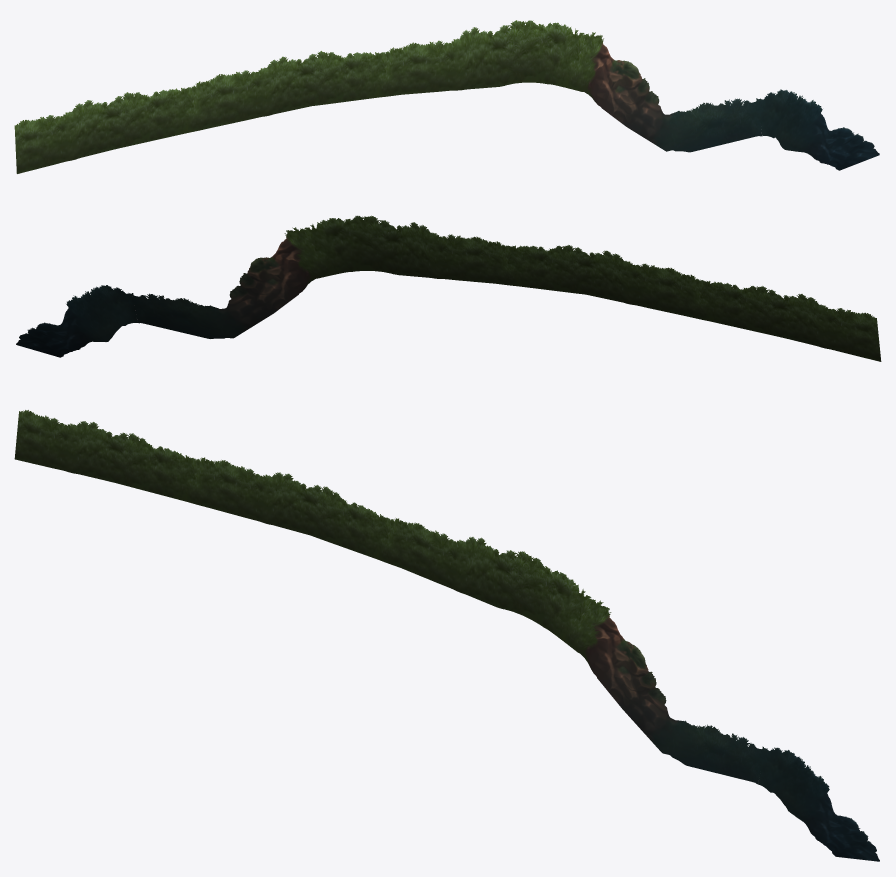
Rendered from Dark Forest Grass FG.FBX.
3 views of the same model, one above another, from view 1: azimuth 30°, elevation 25°; view 2: azimuth 150°, elevation 25°; view 3: azimuth 330°, elevation 25° (orthographic).
Parts seen in each view (by area): view 1: Grass Landscape FG; view 2: Grass Landscape FG; view 3: Grass Landscape FG.
Part boxes in pixels (x1,y1,x2,y2): Grass Landscape FG: (14, 20, 879, 173); Grass Landscape FG: (16, 215, 881, 361); Grass Landscape FG: (14, 410, 879, 861).
Size of the model in its own units: 6523 by 109 by 1851.
